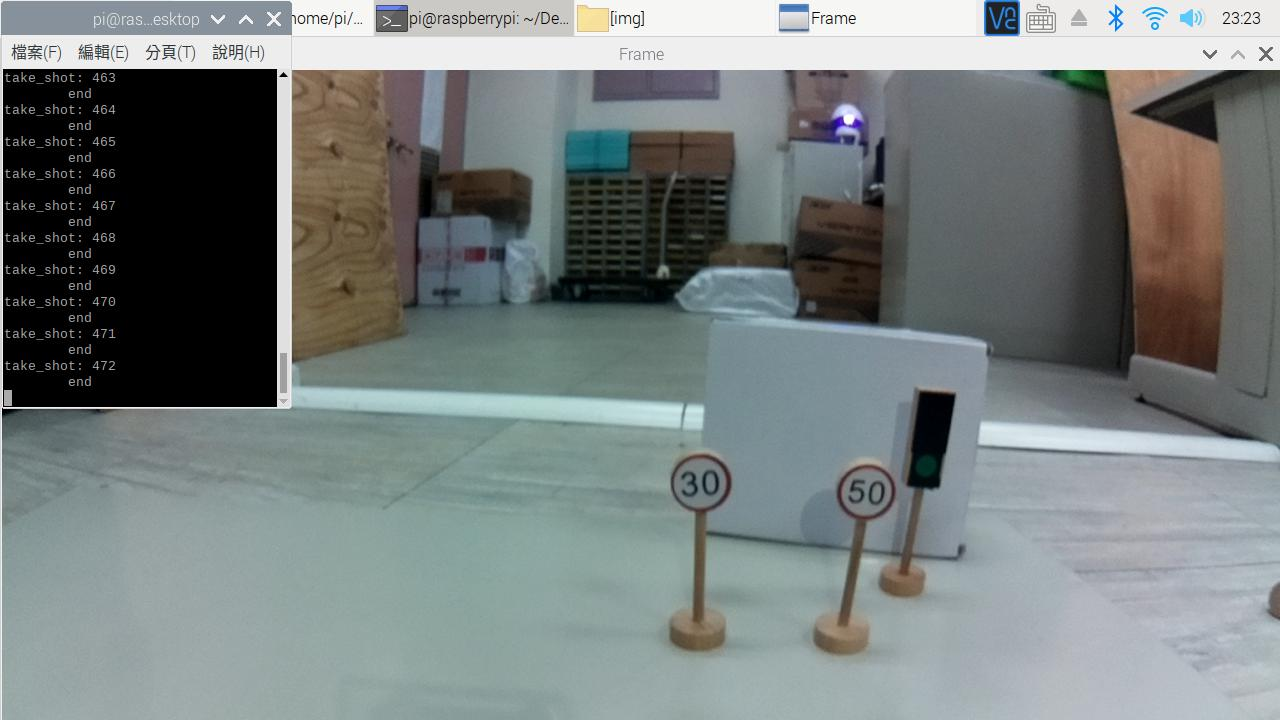Green: (903, 379, 961, 495)
Speed30: (666, 448, 737, 518)
Speed50: (837, 460, 895, 529)
